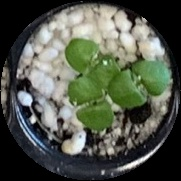Basil: (62, 80, 118, 132), (66, 39, 120, 85), (115, 64, 168, 109)
